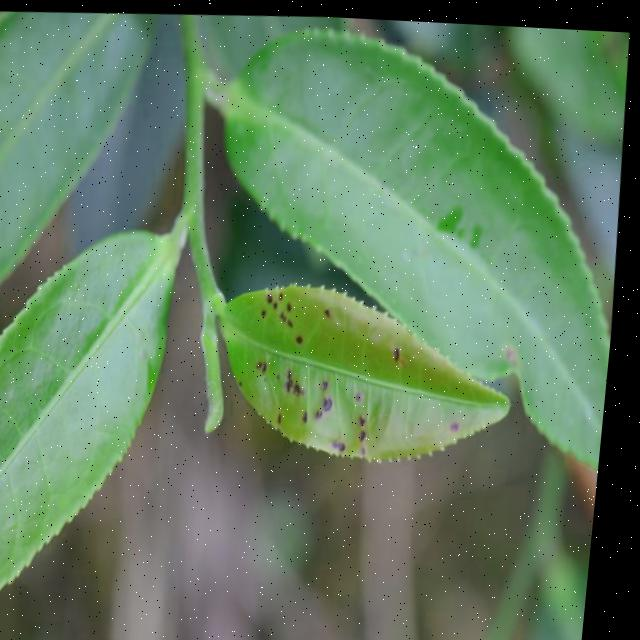Tea red scab: (252, 339, 482, 467), (248, 266, 432, 367)
